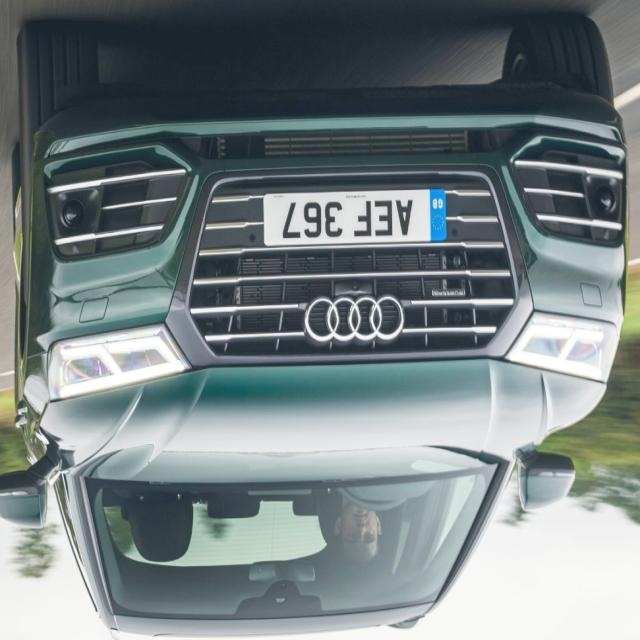green: (0, 17, 628, 633)
